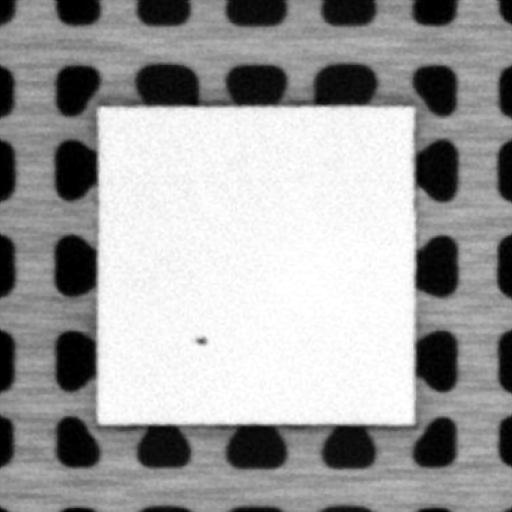DIE_INK: (191, 331, 207, 346)
